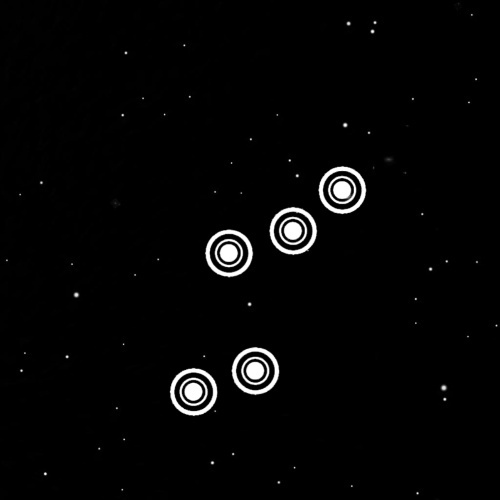lyra: (159, 150, 382, 428)
